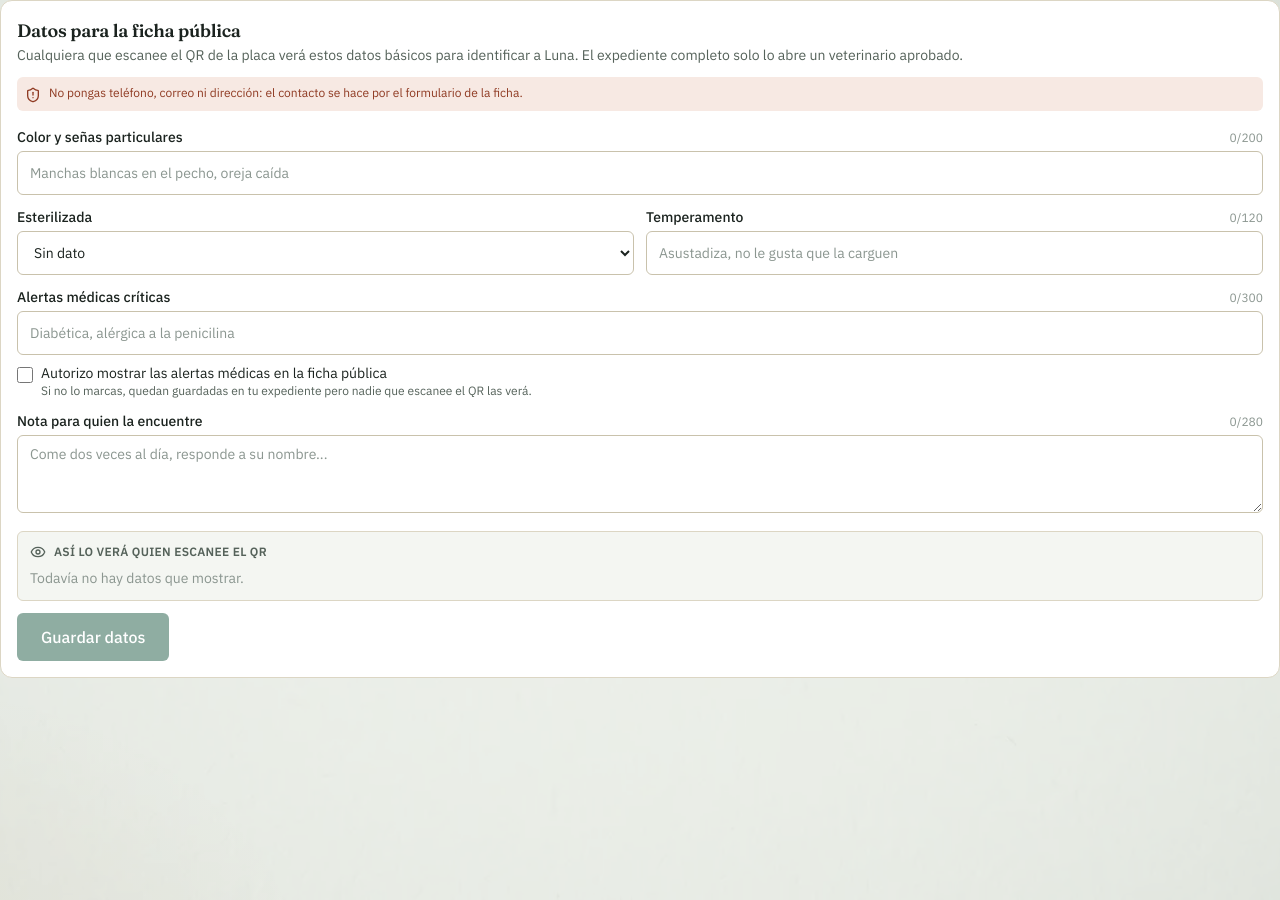
Scenario: FormularioDatosPublicosMascota › RN 5: las alertas médicas no se previsualizan como visibles hasta que el dueño las autoriza
Type "sorda" into the field with placeholder "Diabética, alérgica a la penicilina" at (640, 333), box [17,311,1263,355]
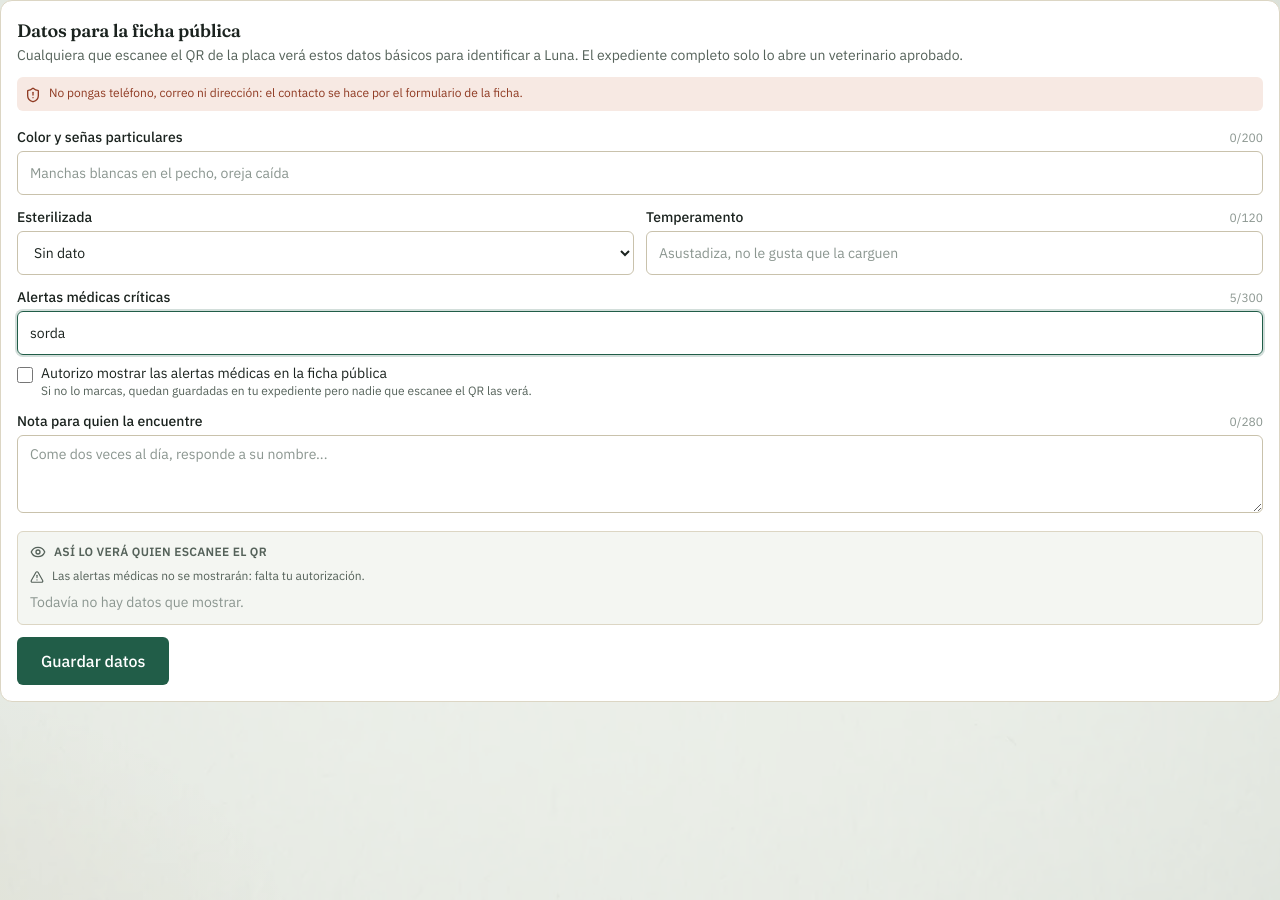
Expected: the text "Las alertas médicas no se mostrarán: falta tu autorización." is shown, [30,568,365,584]
Click the checkbox at (25, 375), box [17,367,33,383]
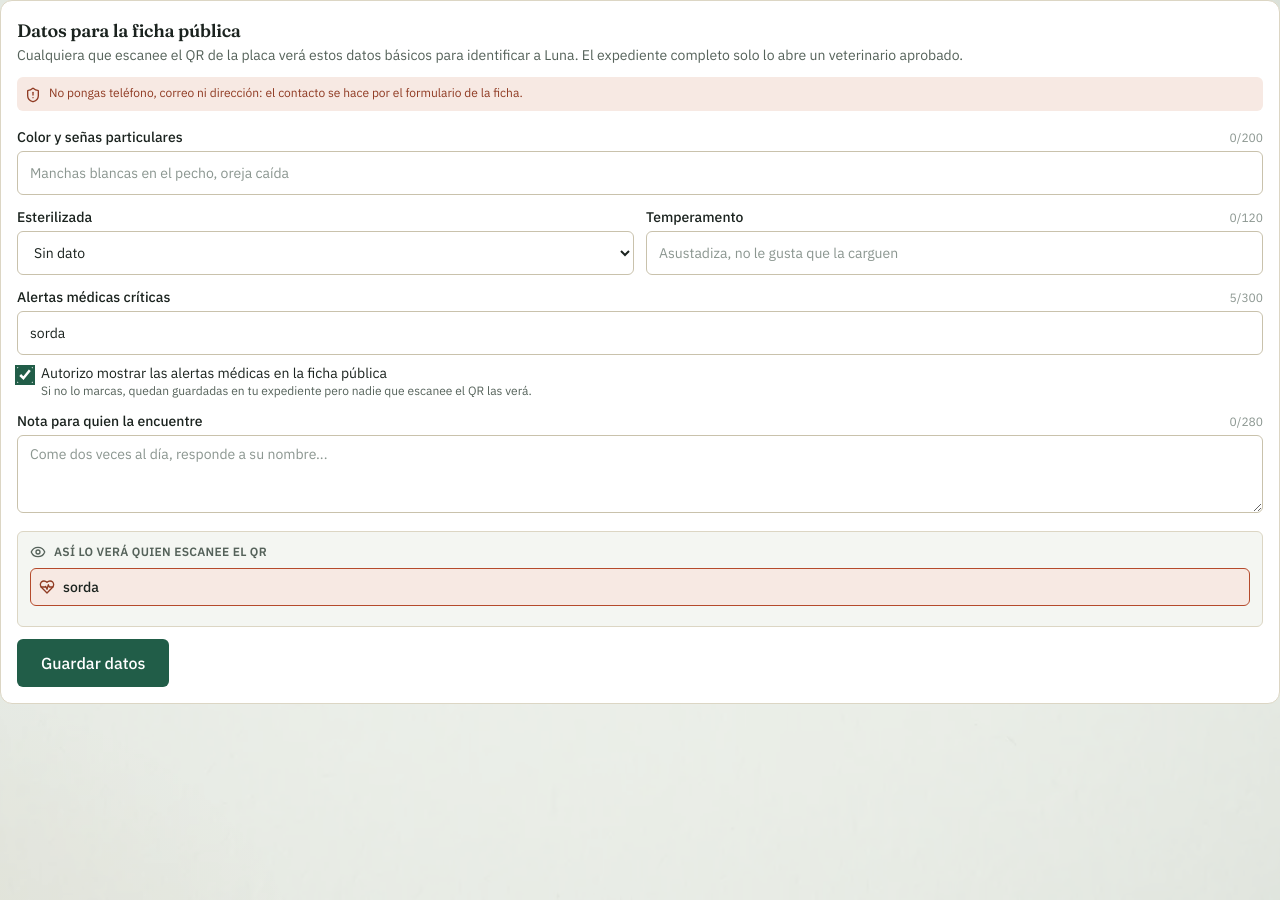
Expected: the text "falta tu autorización" is gone
